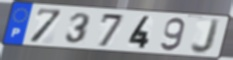3: (64, 12, 92, 45)
4: (126, 15, 151, 50)
7: (29, 7, 64, 44), (99, 12, 124, 48)
9: (160, 16, 187, 52)
J: (189, 18, 222, 56)
